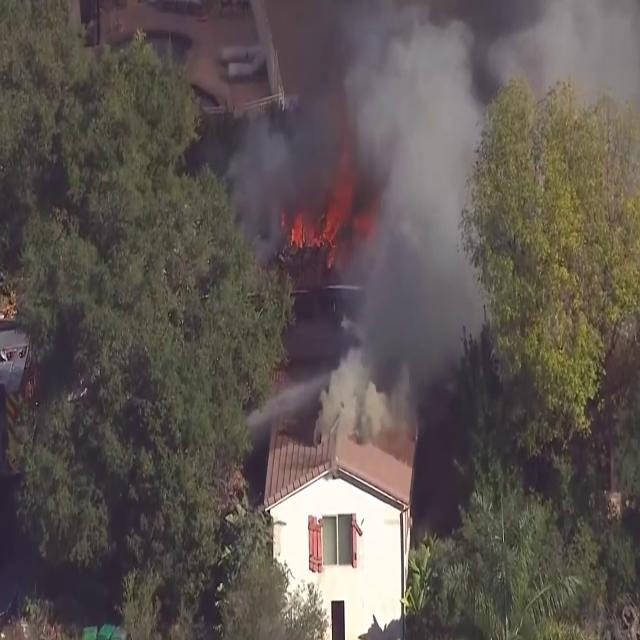Smoke: (235, 0, 518, 384)
